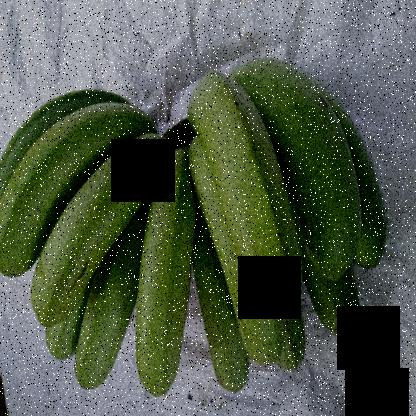freshunripe: (191, 55, 312, 312), (0, 92, 148, 288), (32, 125, 170, 328), (259, 46, 363, 283), (133, 101, 208, 396), (187, 188, 248, 393), (68, 251, 140, 396)
